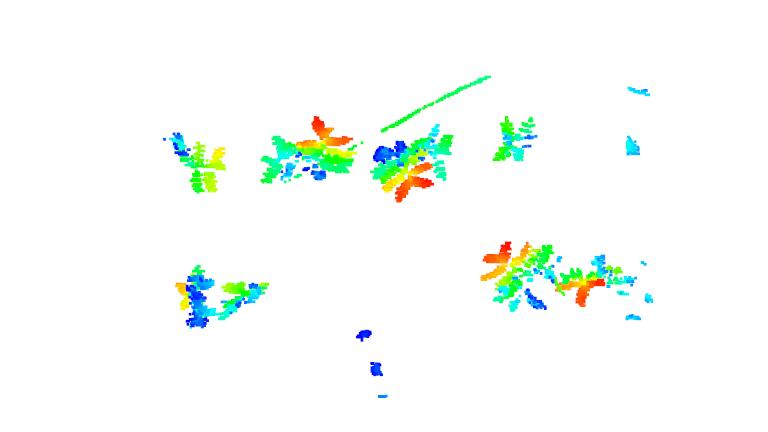chickpea: (256, 112, 362, 183), (370, 126, 453, 195), (480, 238, 557, 311), (162, 130, 227, 199), (560, 251, 626, 309), (175, 265, 215, 332), (489, 113, 539, 165), (217, 279, 271, 322)
